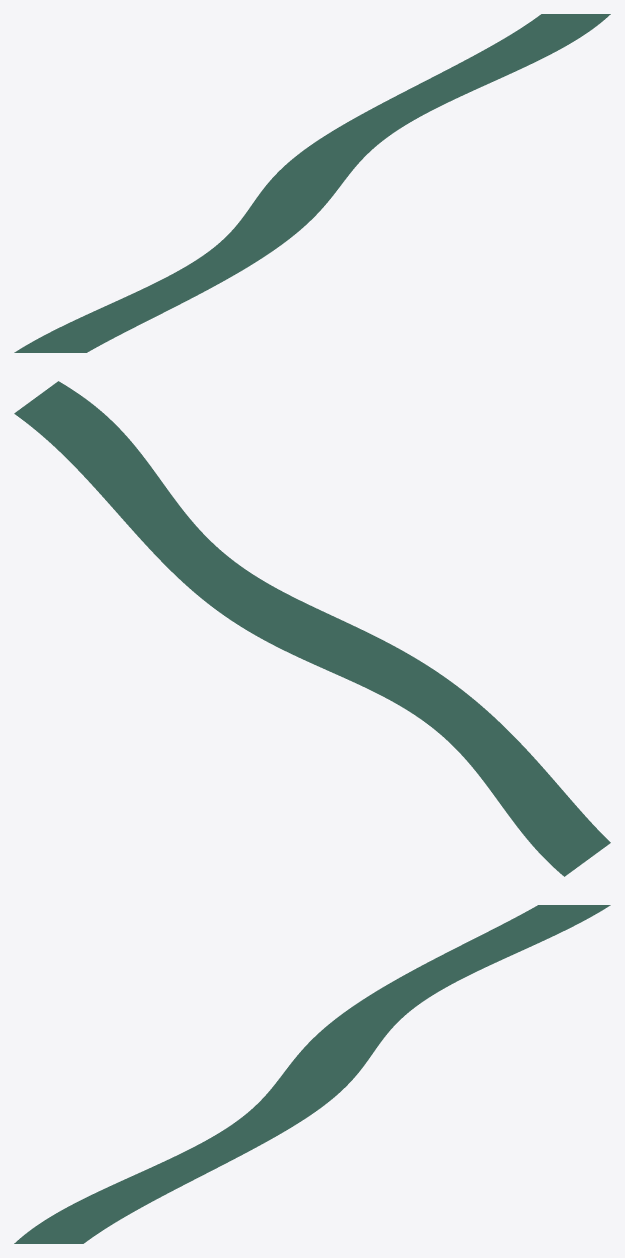
File: SM_StreamSurface.fbx
3 views of the same model, one above another, from view 1: azimuth 90°, elevation 25°; view 2: azimuth 150°, elevation 25°; view 3: azimuth 270°, elevation 25° (orthographic). The views are drawn at different scales.
Visible parts, largest first — view 1: SM_StreamSurface; view 2: SM_StreamSurface; view 3: SM_StreamSurface.
Boxes of the visible parts, x1,y1,x2,y2 form: SM_StreamSurface: [14, 14, 610, 352]; SM_StreamSurface: [14, 381, 610, 876]; SM_StreamSurface: [14, 905, 610, 1243].
Size of the model in its own units: 64 by 47.66 by 0.
